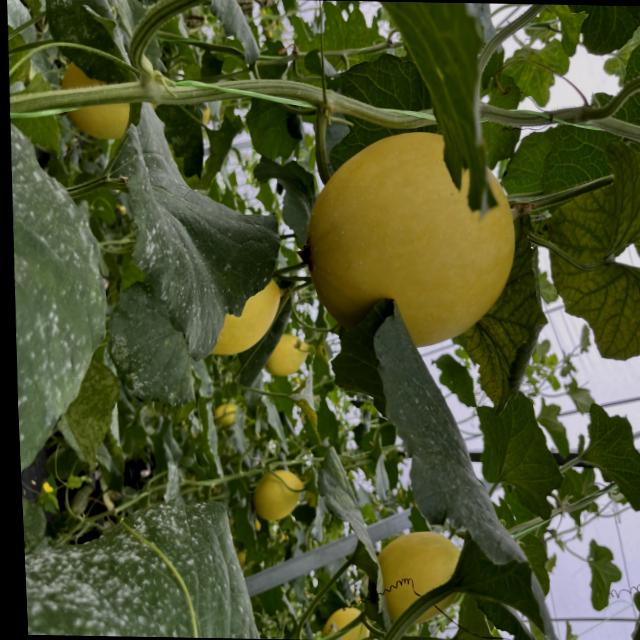downy mildew: (539, 138, 640, 363), (450, 206, 555, 420)
healthy: (310, 290, 585, 640), (354, 1, 511, 220), (471, 386, 567, 524), (578, 401, 640, 522)
powdery mildew: (103, 98, 292, 361), (4, 97, 125, 488), (22, 489, 274, 638)
